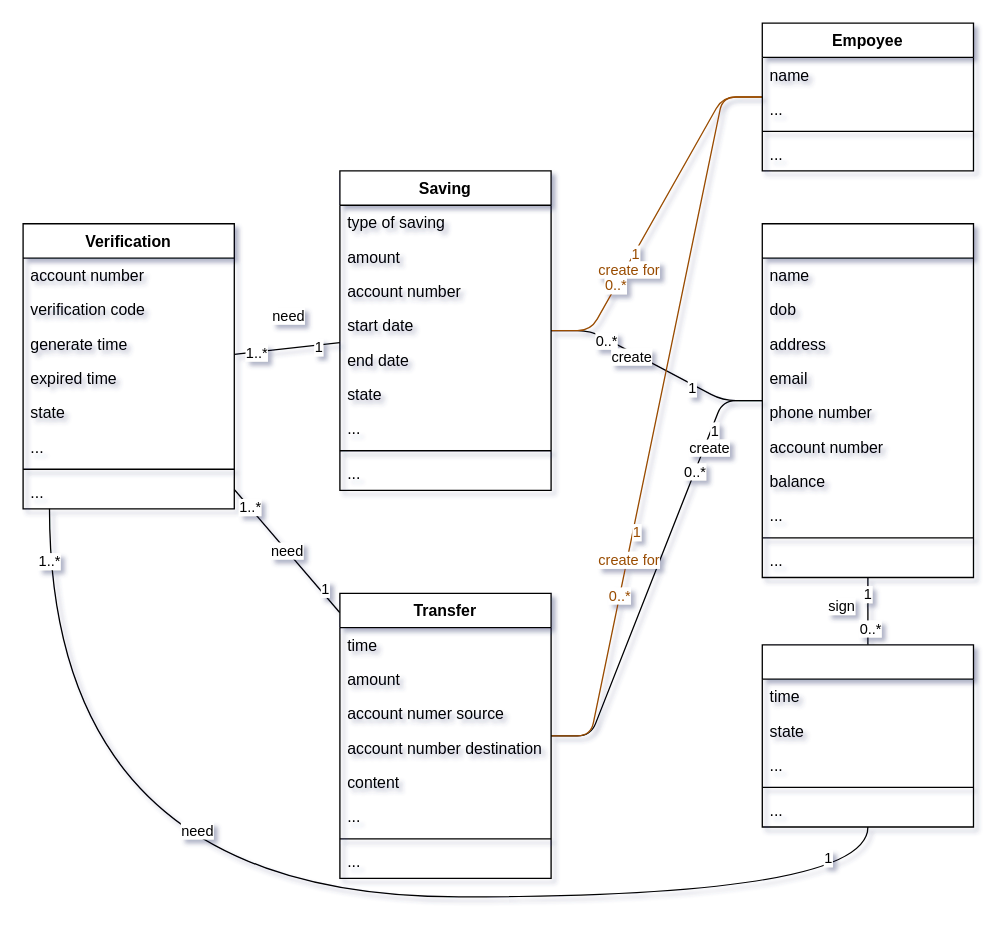
Image size: 1005x928. Some labels were removed from this diagram. Each missing label, with the box of its shape:
Activity: (761, 644, 974, 827)
Customer: (761, 222, 974, 578)
